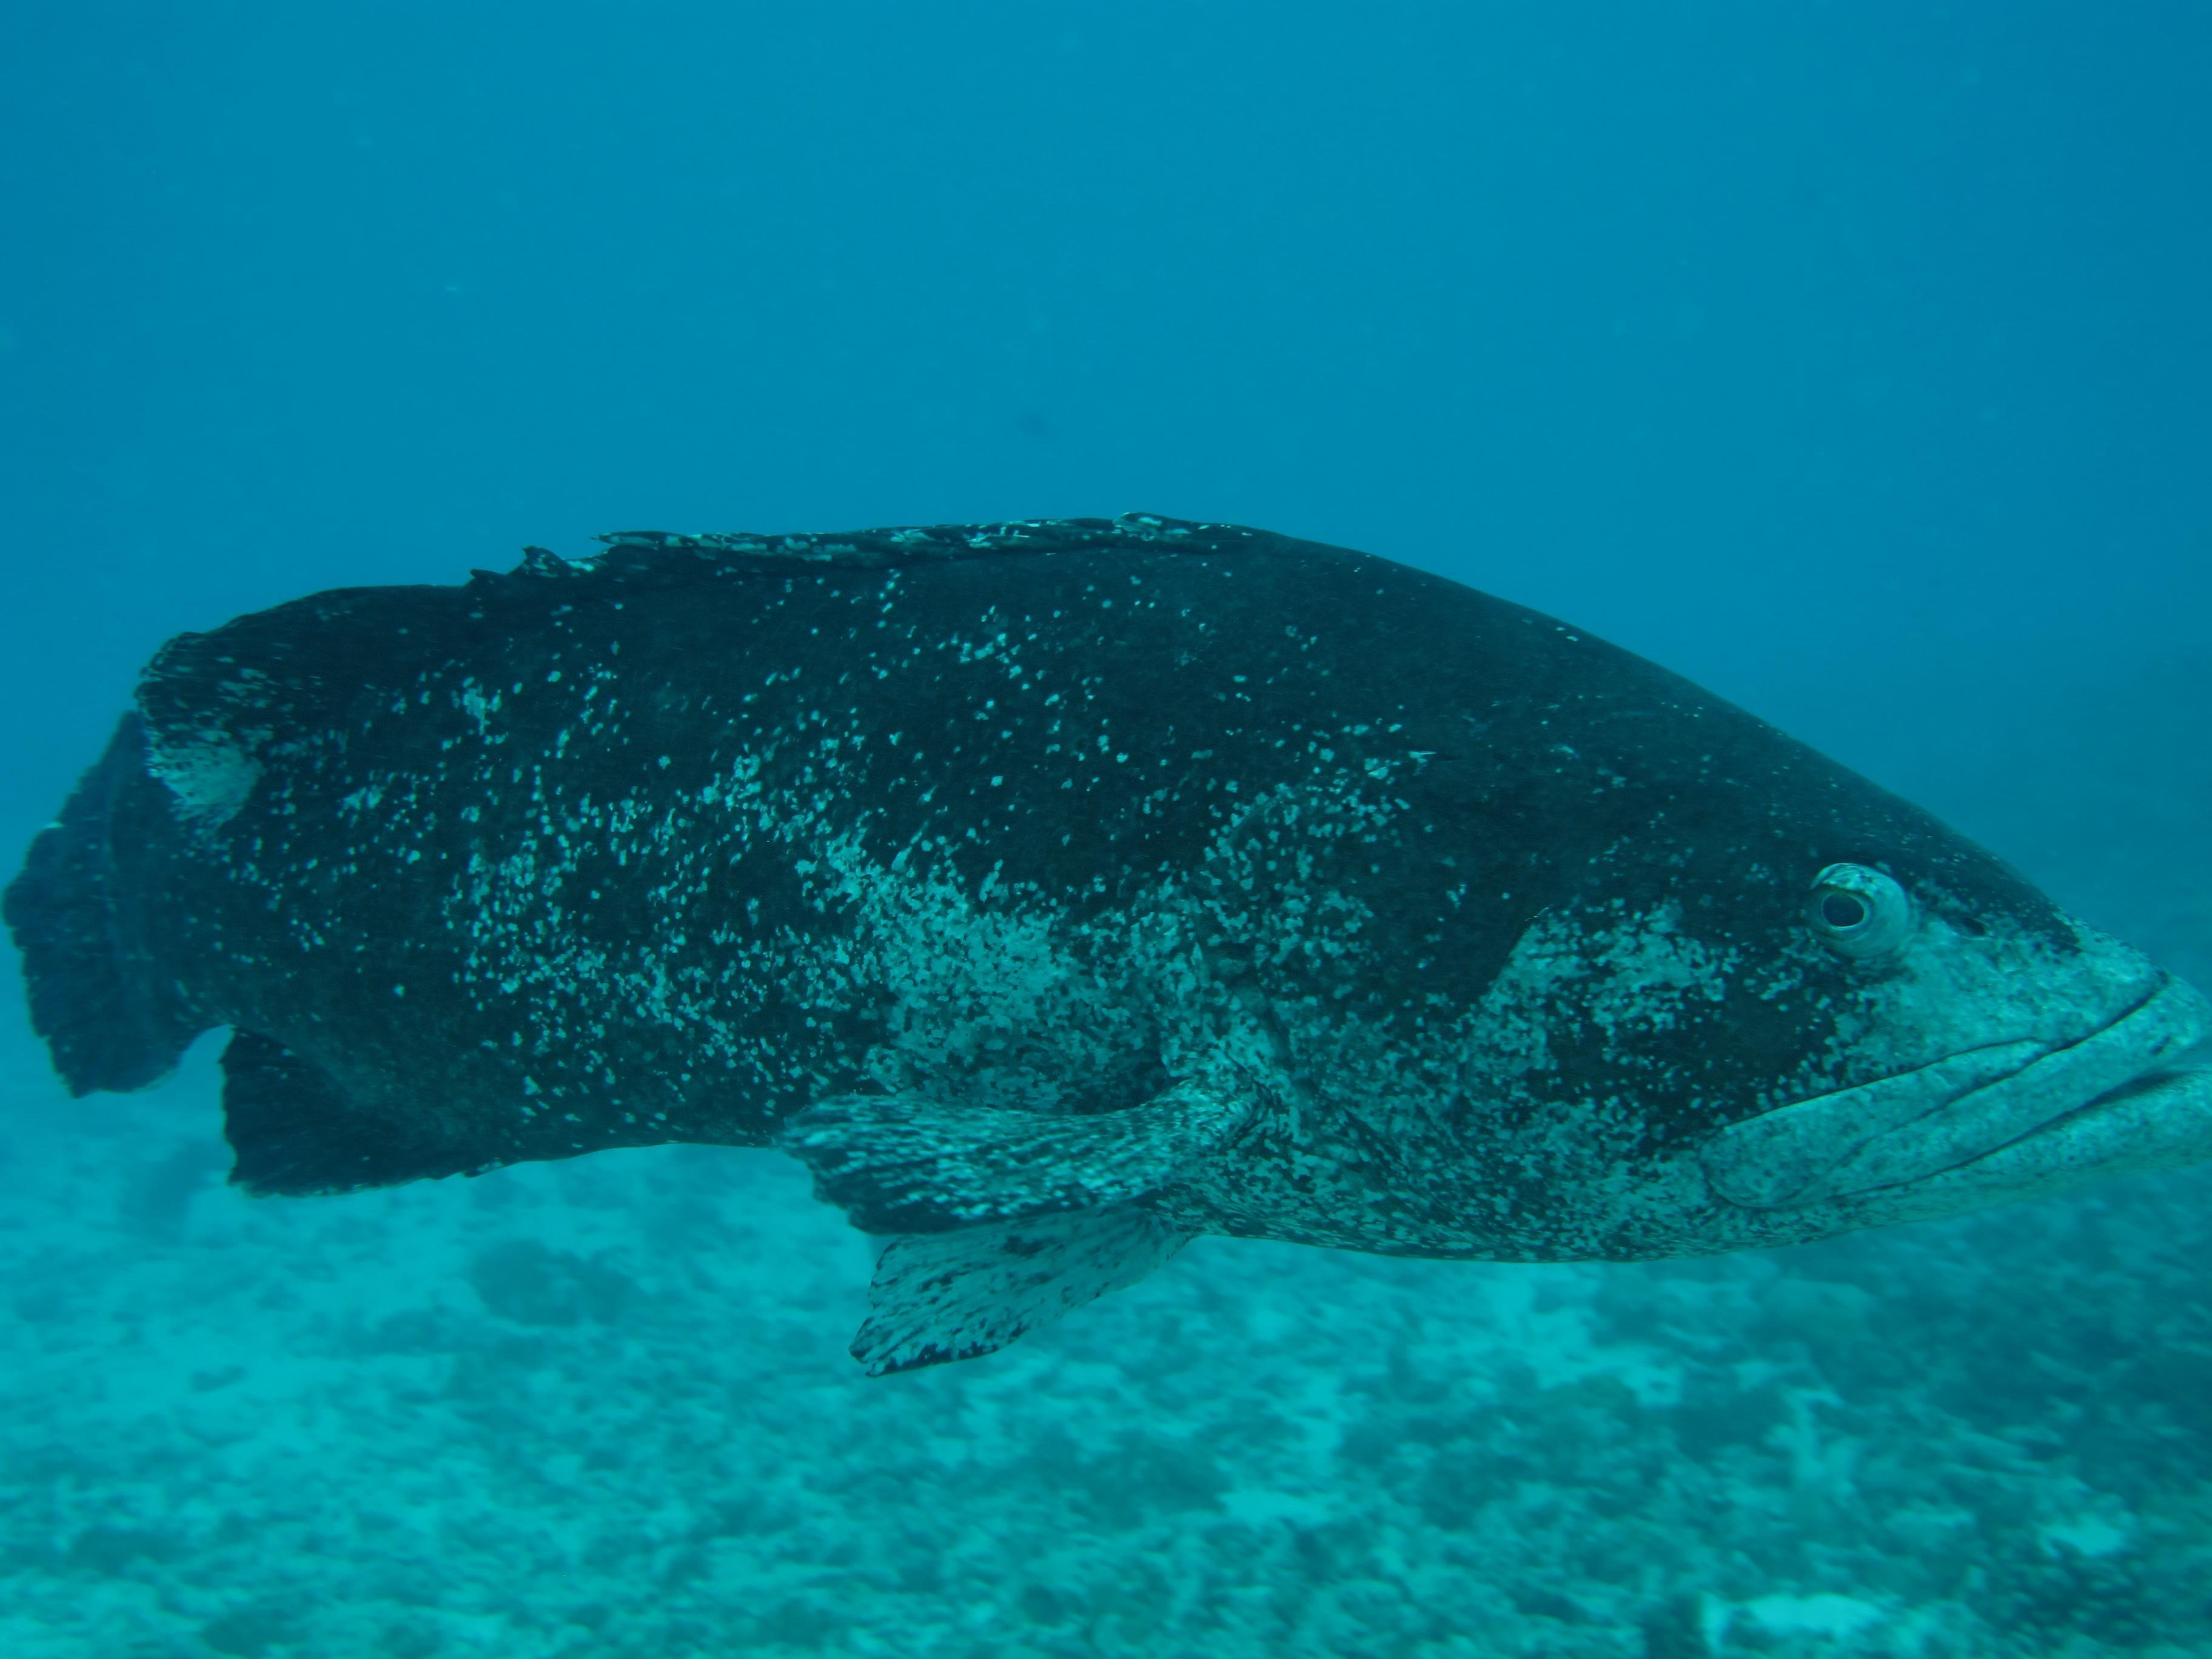Fish: (0, 378, 2212, 1495)
